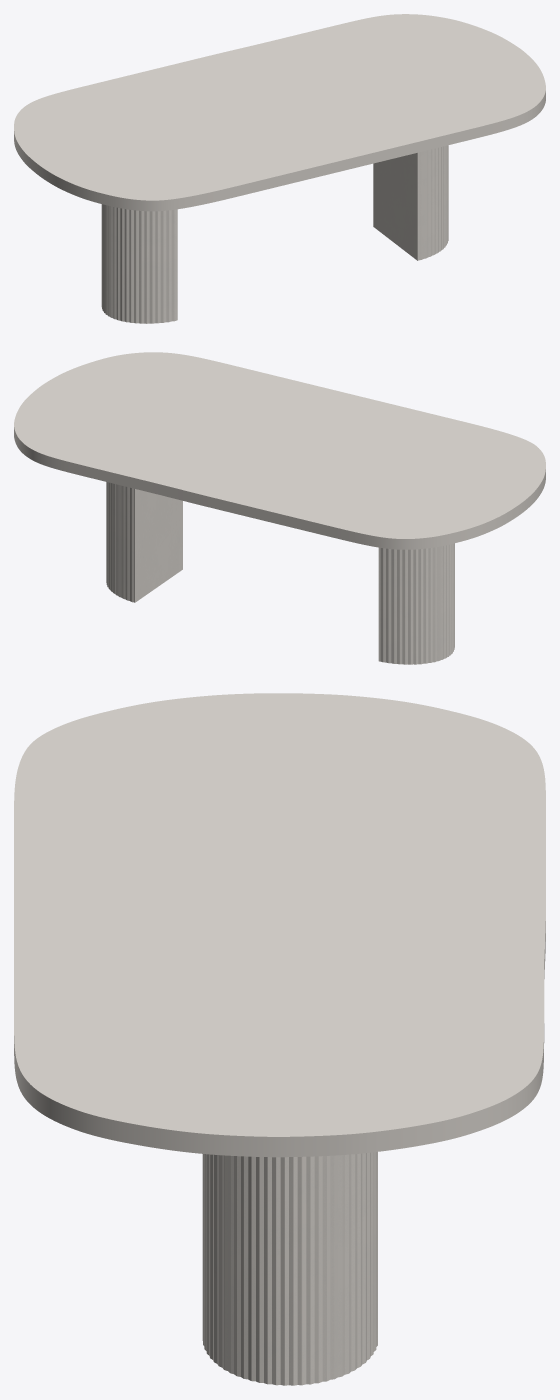
Rendered from pearlwhite_oval_standard_flute.glb.
3 renders of one model, top to bottom at view 1: azimuth 30°, elevation 25°; view 2: azimuth 150°, elevation 25°; view 3: azimuth 270°, elevation 25°, orthographic. The views are drawn at different scales.
Parts seen in each view (by area): view 1: standard_oval, flute; view 2: standard_oval, flute; view 3: standard_oval, flute.
Part boxes in pixels (x1,y1,x2,y2): standard_oval: (14, 14, 545, 211); flute: (101, 145, 448, 323); standard_oval: (14, 352, 545, 549); flute: (106, 482, 454, 664); standard_oval: (14, 693, 545, 1157); flute: (202, 1152, 377, 1385).
Size of the model in its own units: 7.5 by 2.5 by 3.8.
Materials: 1 (1 with a texture image).
